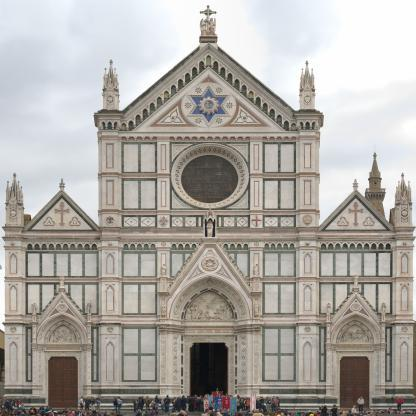Building Outline: (1, 5, 416, 411)
Cornice: (131, 66, 285, 131), (320, 195, 391, 231), (27, 195, 97, 231)
Deco: (163, 241, 255, 320), (330, 291, 381, 344), (36, 291, 87, 344), (325, 198, 387, 229), (31, 198, 92, 229), (44, 320, 82, 344), (336, 320, 374, 344), (230, 105, 262, 125), (156, 106, 188, 125), (200, 5, 217, 36), (203, 207, 218, 237), (238, 335, 247, 384), (172, 335, 180, 384), (161, 334, 166, 384), (254, 334, 259, 384), (185, 329, 233, 333), (186, 322, 232, 325), (105, 214, 115, 226), (159, 215, 168, 227), (338, 347, 373, 350), (303, 215, 312, 226), (252, 216, 261, 227), (160, 303, 166, 318), (254, 304, 260, 318), (253, 263, 259, 276), (353, 275, 359, 288), (86, 301, 92, 314), (161, 264, 167, 276), (59, 276, 65, 288), (31, 303, 37, 314), (381, 302, 386, 314), (326, 303, 331, 314), (402, 210, 408, 217), (107, 97, 113, 104), (10, 211, 16, 217), (305, 97, 311, 103), (253, 390, 259, 394), (402, 242, 407, 246), (11, 242, 16, 246), (254, 243, 259, 247), (305, 242, 310, 246), (161, 390, 166, 394), (108, 242, 113, 246), (161, 243, 166, 247), (313, 93, 317, 97), (18, 207, 22, 210), (4, 207, 8, 210), (101, 93, 105, 96), (396, 207, 399, 210), (410, 207, 413, 210), (116, 93, 119, 96), (299, 93, 302, 96)
Door: (189, 342, 229, 411), (48, 356, 78, 409), (340, 356, 369, 409)
Facade: (1, 5, 415, 411)
Ground Floor: (5, 230, 413, 410)
Molding: (98, 52, 319, 131), (183, 338, 234, 395), (336, 353, 374, 395), (44, 353, 82, 395), (158, 324, 262, 335), (170, 242, 250, 250), (25, 242, 99, 250), (319, 242, 393, 250), (31, 343, 93, 351), (325, 343, 387, 351), (170, 136, 250, 141), (122, 242, 157, 250), (263, 242, 296, 250), (122, 136, 157, 141), (263, 136, 295, 141)
Top Floor: (99, 132, 320, 230)
Window: (170, 276, 249, 321), (331, 313, 381, 344), (37, 314, 87, 344)
